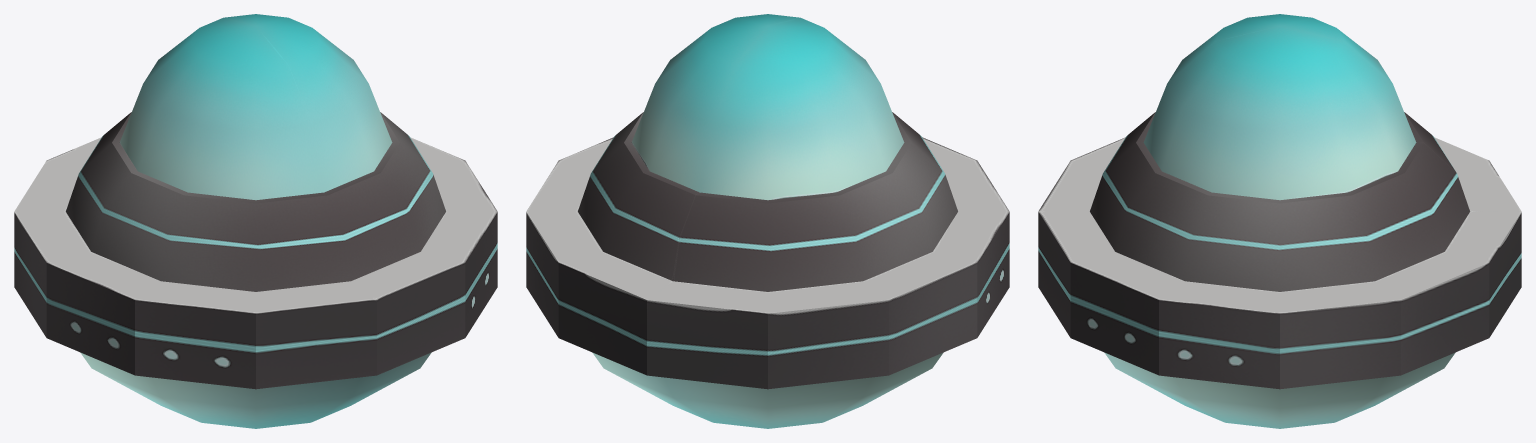
3 views of the same model, side by side, from view 1: azimuth 30°, elevation 25°; view 2: azimuth 150°, elevation 25°; view 3: azimuth 270°, elevation 25° (orthographic).
Parts seen in each view (by area): view 1: feidie_01; view 2: feidie_01; view 3: feidie_01.
Part boxes in pixels (bbox=[...]): feidie_01: bbox=[14, 14, 497, 428]; feidie_01: bbox=[526, 14, 1009, 428]; feidie_01: bbox=[1038, 14, 1521, 428].
Size of the model in its own units: 389 by 334 by 389.
Materials: 1 (1 with a texture image).
